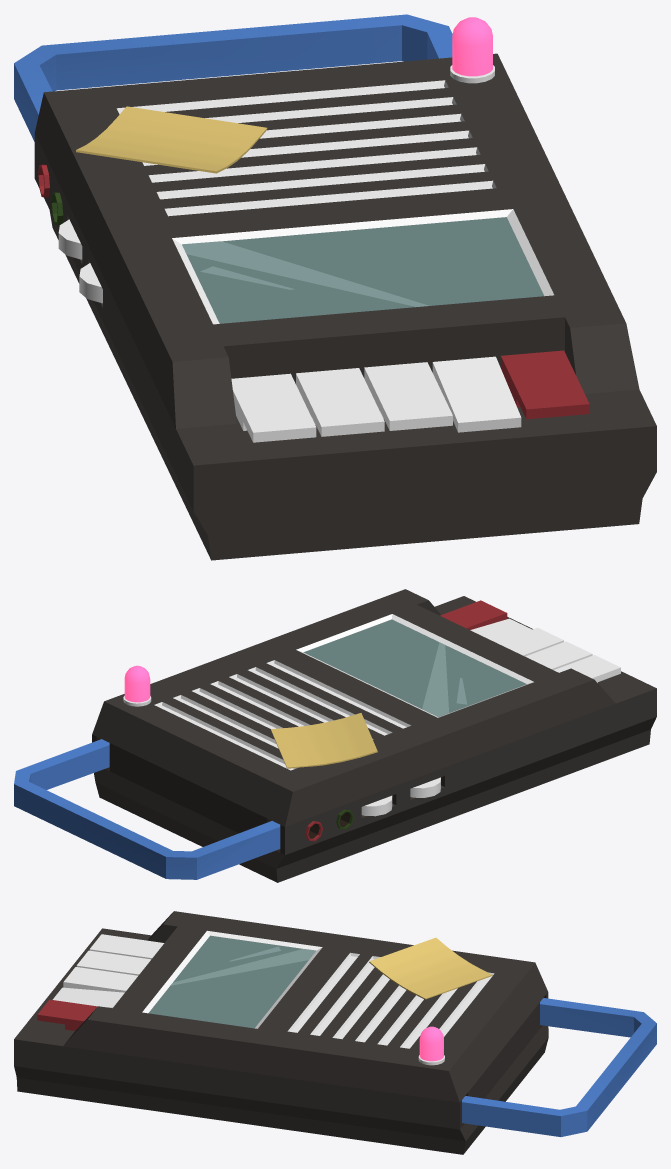
File: Casette.fbx
3 renders of one model, top to bottom at view 1: azimuth 30°, elevation 25°; view 2: azimuth 150°, elevation 25°; view 3: azimuth 270°, elevation 25°, orthographic. The views are drawn at different scales.
Parts seen in each view (by area): view 1: Cube.023, Cube.021, Cube.022, Sticker.005, Cube.019, Cube.020, Plane.005, Sphere; view 2: Cube.023, Cube.021, Sticker.005, Cube.022, Plane.005, Cube.020, Sphere, Cube.019, Cylinder.015, Cylinder.014; view 3: Cube.023, Cube.021, Sticker.005, Cube.022, Plane.005, Cube.020, Cube.019, Sphere.
Boxes of the visible parts, <box> form: Cube.023: <box>34,53,656,560</box>; Cube.021: <box>14,14,452,141</box>; Cube.022: <box>231,362,452,442</box>; Sticker.005: <box>76,106,267,173</box>; Cube.019: <box>432,356,521,432</box>; Cube.020: <box>501,350,589,419</box>; Plane.005: <box>182,241,429,306</box>; Sphere: <box>452,17,492,76</box>; Cube.023: <box>92,589,656,882</box>; Cube.021: <box>14,739,280,879</box>; Sticker.005: <box>271,713,377,768</box>; Cube.022: <box>497,627,620,682</box>; Plane.005: <box>422,642,448,716</box>; Cube.020: <box>440,600,507,629</box>; Sphere: <box>124,665,150,702</box>; Cube.019: <box>470,618,531,642</box>; Cylinder.015: <box>361,795,392,816</box>; Cylinder.014: <box>410,777,440,797</box>; Cube.023: <box>14,911,548,1154</box>; Cube.021: <box>462,998,656,1136</box>; Sticker.005: <box>369,937,492,999</box>; Cube.022: <box>63,934,164,992</box>; Plane.005: <box>170,949,315,985</box>; Cube.020: <box>37,999,97,1030</box>; Cube.019: <box>52,987,124,1008</box>; Sphere: <box>419,1026,443,1061</box>.
Bounding box in the file's own units: 315 × 93.33 × 463.
